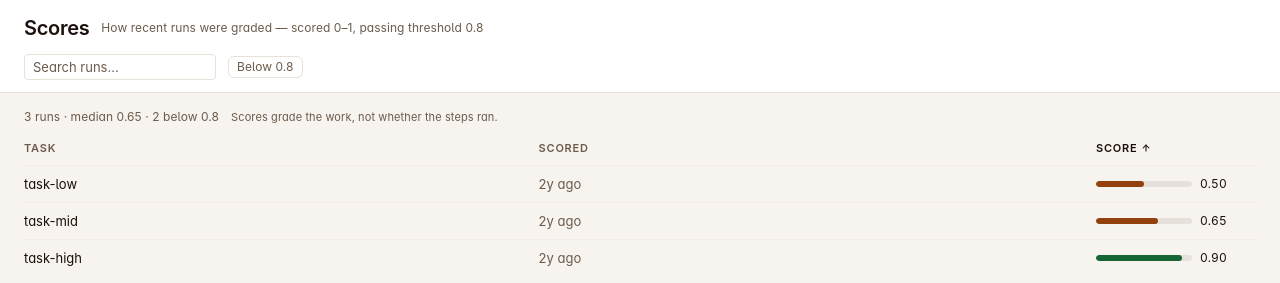
Scenario: StudioIndexPage (Scores list) › aggregate line › recomputes count and median when the below-threshold filter narrows the list
Click the button with test id "studio-index-below-filter" at (265,67), box [228,56,303,78]
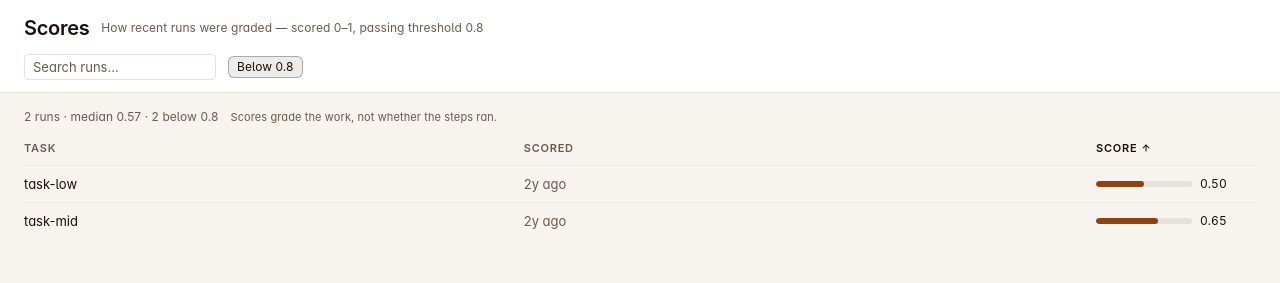
Check: the element with test id "studio-index-aggregate" shows "2", box [24,109,31,124]
Check: the element with test id "studio-index-aggregate" no longer shows "3 run"
